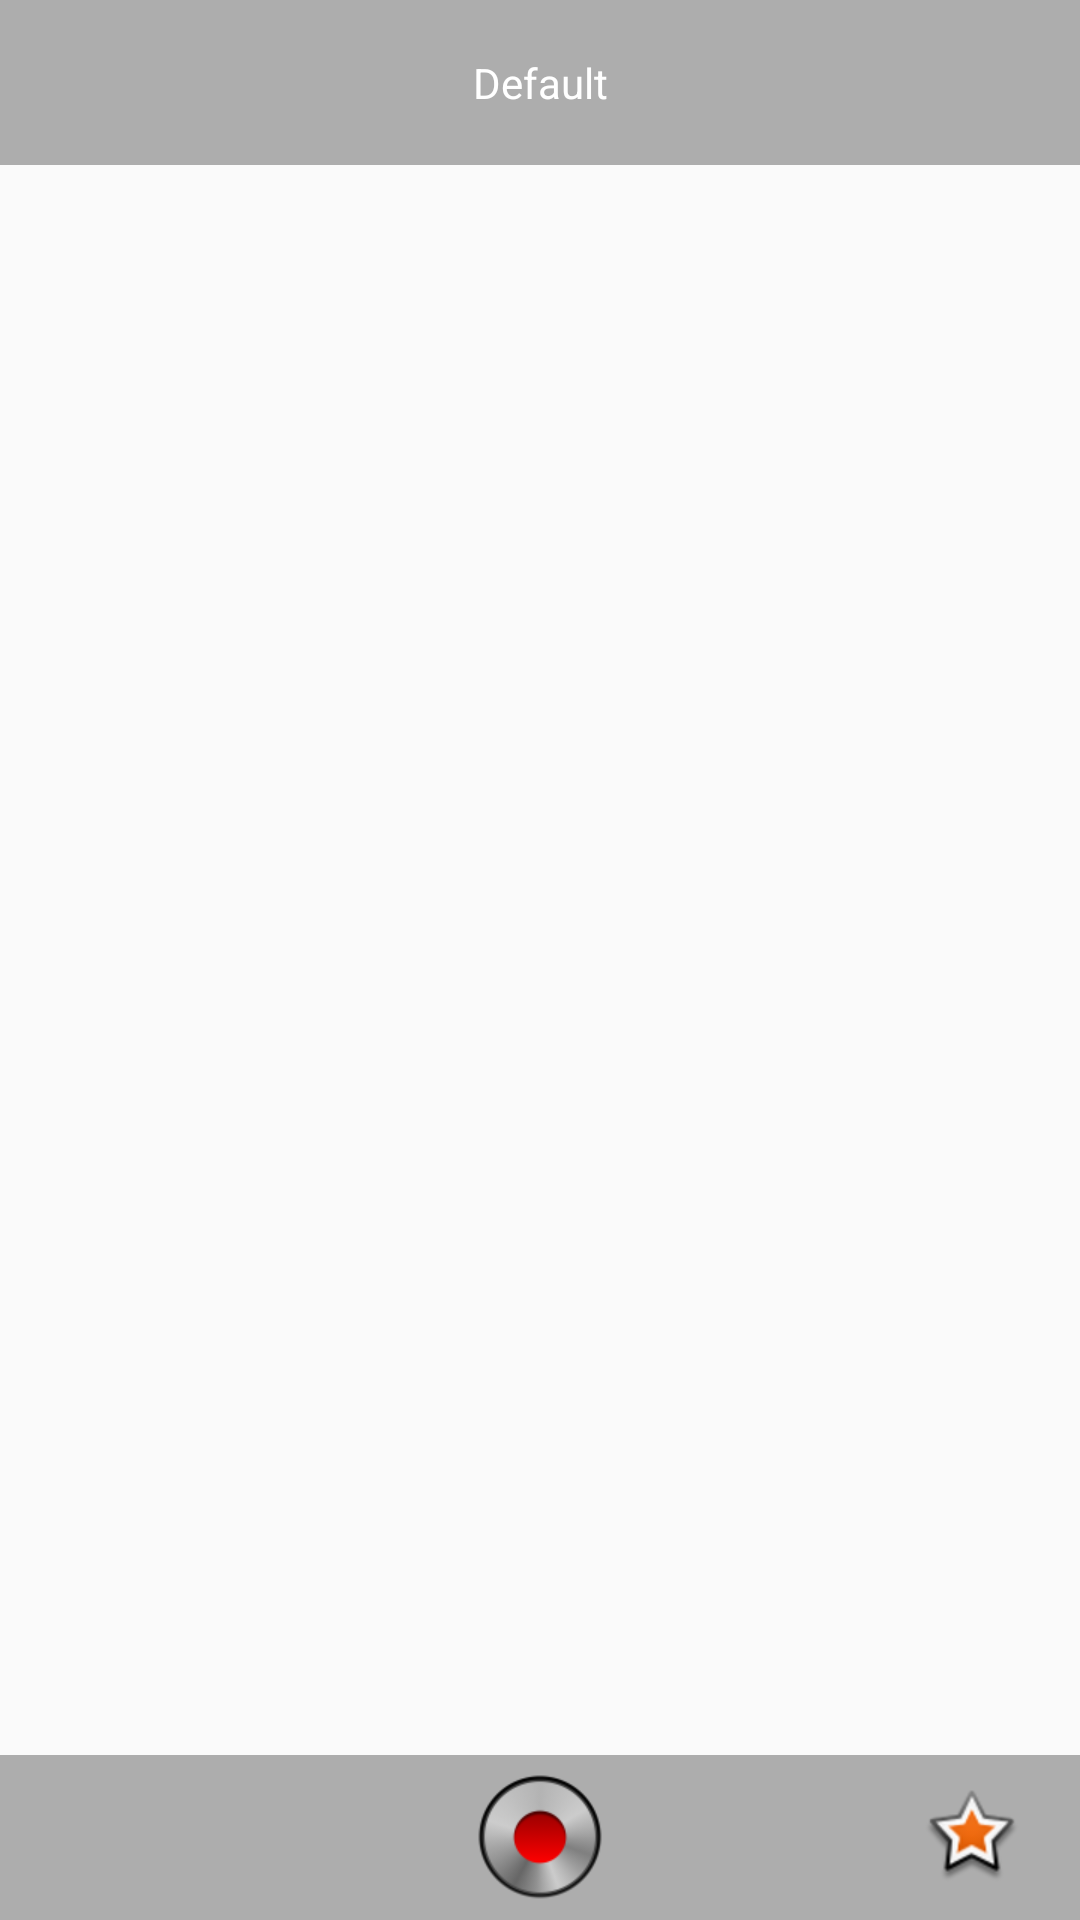

Where icons sit on this 1080x1920 app screen, as (x1, y1, x2, y2):
rec: (478, 1775, 602, 1899)
star on: (930, 1791, 1014, 1876)
